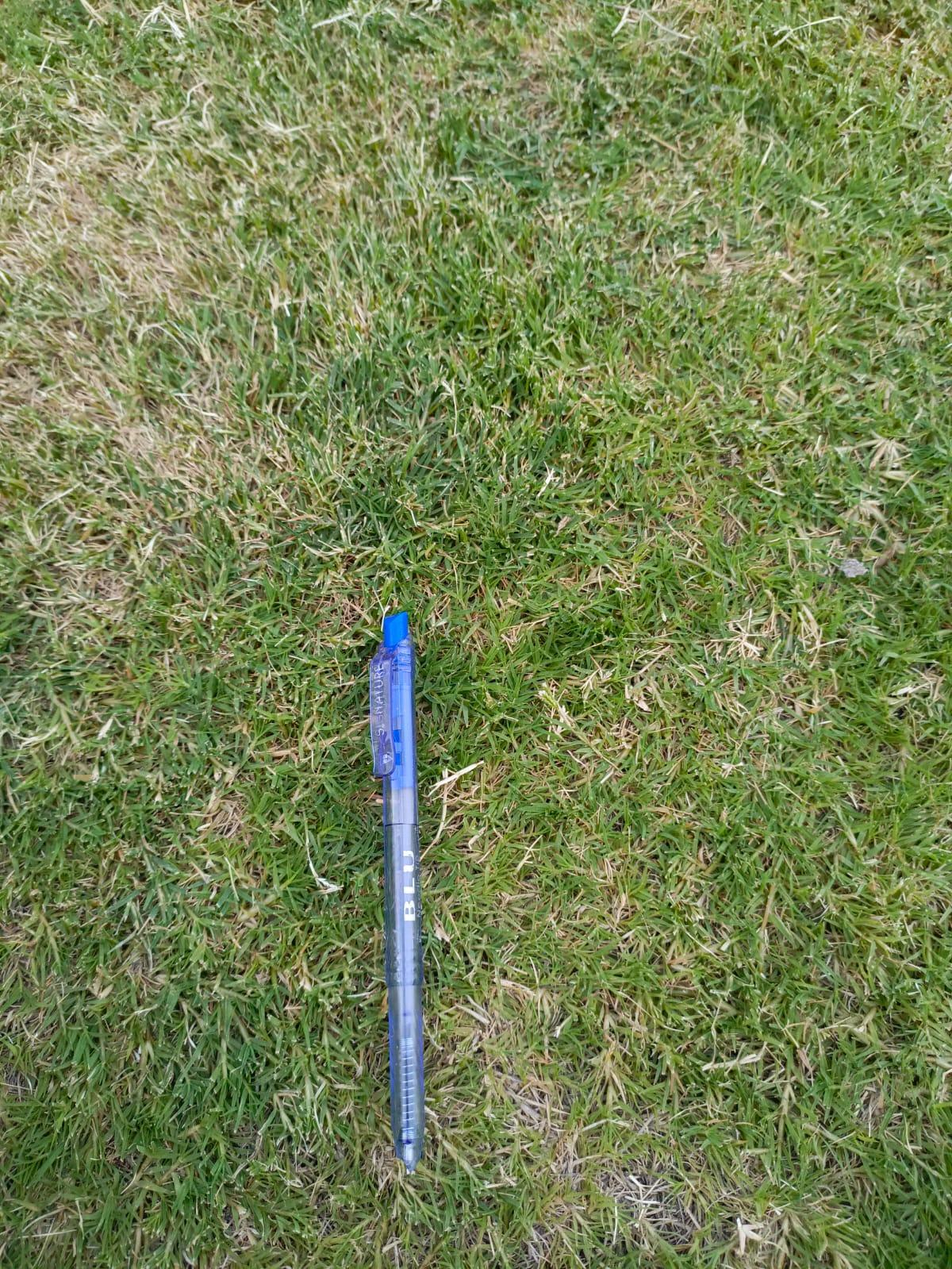ballpoint3: (123, 343, 631, 1240)
pen: (94, 393, 711, 1263)
